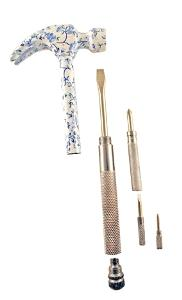hammer: (8, 21, 108, 156)
